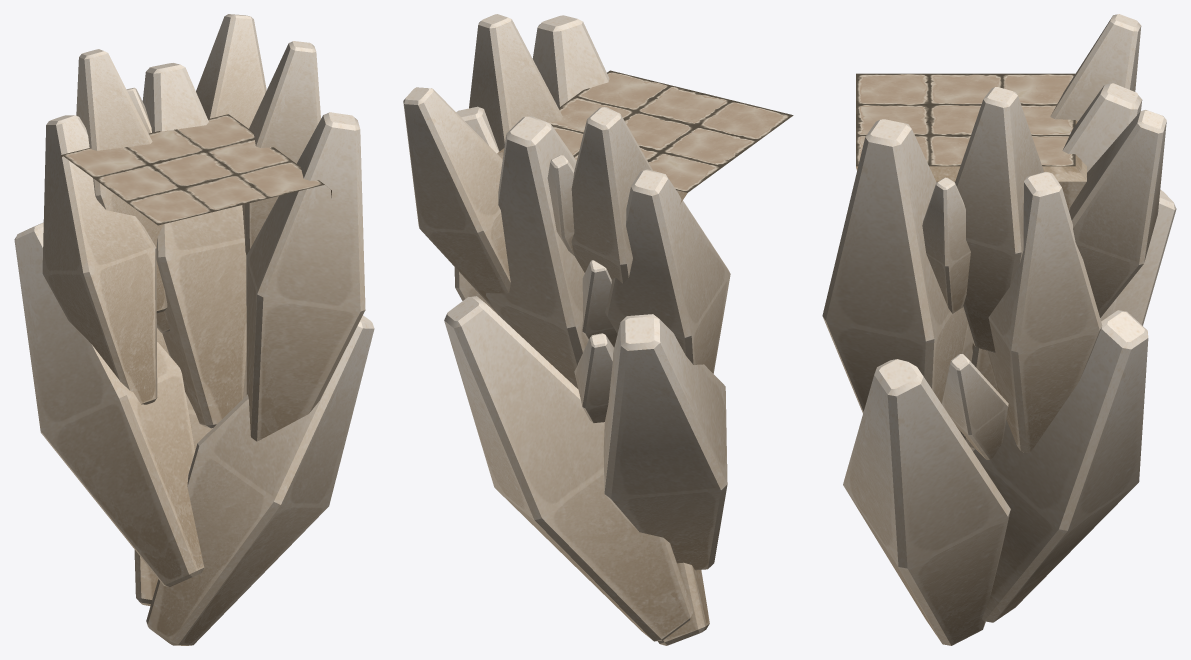
File: corneer.FBX
3 renders of one model, left to right at view 1: azimuth 30°, elevation 25°; view 2: azimuth 150°, elevation 25°; view 3: azimuth 270°, elevation 25°, orthographic. The views are drawn at different scales.
Parts seen in each view (by area): view 1: corner001; view 2: corner001; view 3: corner001.
Part boxes in pixels (box(x1,y1,x2,y2)): corner001: box(14, 14, 374, 645); corner001: box(403, 14, 793, 645); corner001: box(822, 14, 1176, 645).
Size of the model in its own units: 452 by 916 by 468.
